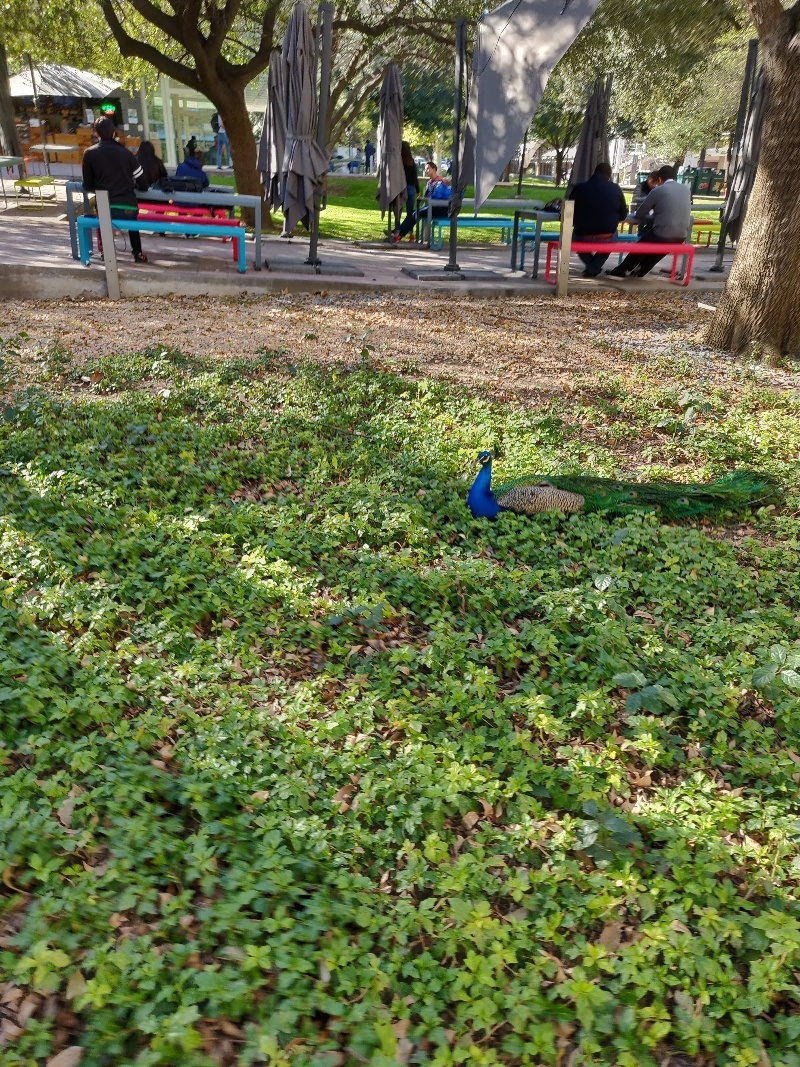pavoreal: (470, 451, 561, 518)
